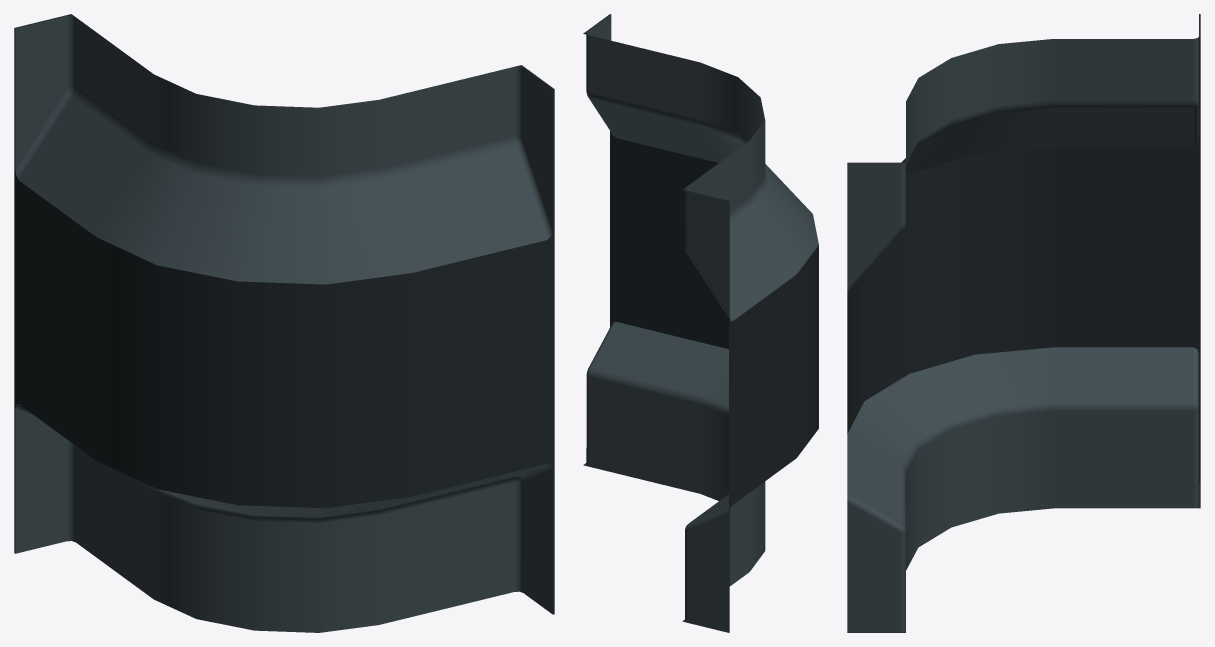
The model's file is wallInner90.fbx.
3 renders of one model, left to right at view 1: azimuth 30°, elevation 25°; view 2: azimuth 150°, elevation 25°; view 3: azimuth 270°, elevation 25°, orthographic. The views are drawn at different scales.
Visible parts, largest first — view 1: wallInner90; view 2: wallInner90; view 3: wallInner90.
Boxes of the visible parts, left/top/right/bottom form: wallInner90: left=14, top=14, right=554, bottom=632; wallInner90: left=583, top=14, right=818, bottom=632; wallInner90: left=847, top=14, right=1200, bottom=632.
Bounding box in the file's own units: 2.4 × 2.4 × 3.52.
